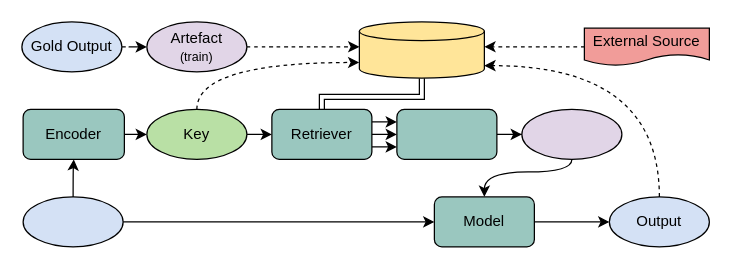
This 731x269 diagram has some shape labels left out. The box of each missing label's shape, as (x1, y1, x2, y2) in pixels:
Aggregator: (396, 108, 497, 159)
Artefact (inference): (521, 108, 622, 159)
K nowledge Base: (358, 21, 484, 78)
Query/Input: (22, 196, 123, 247)
